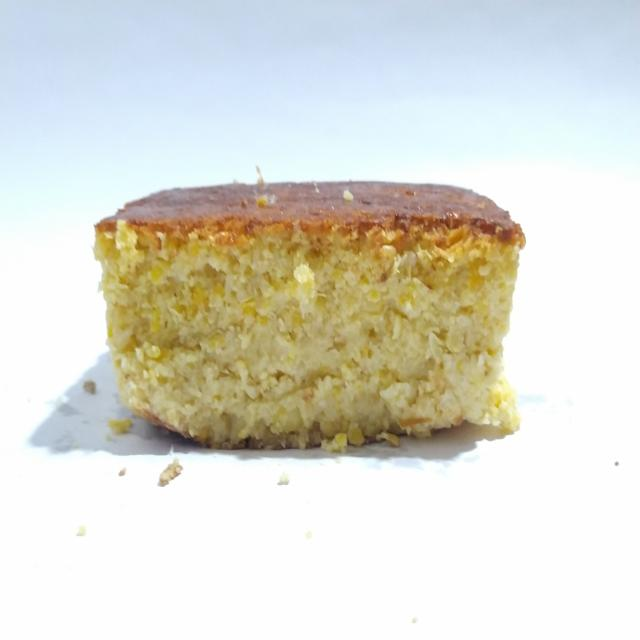Chipa_Guazu: (77, 152, 531, 456)
